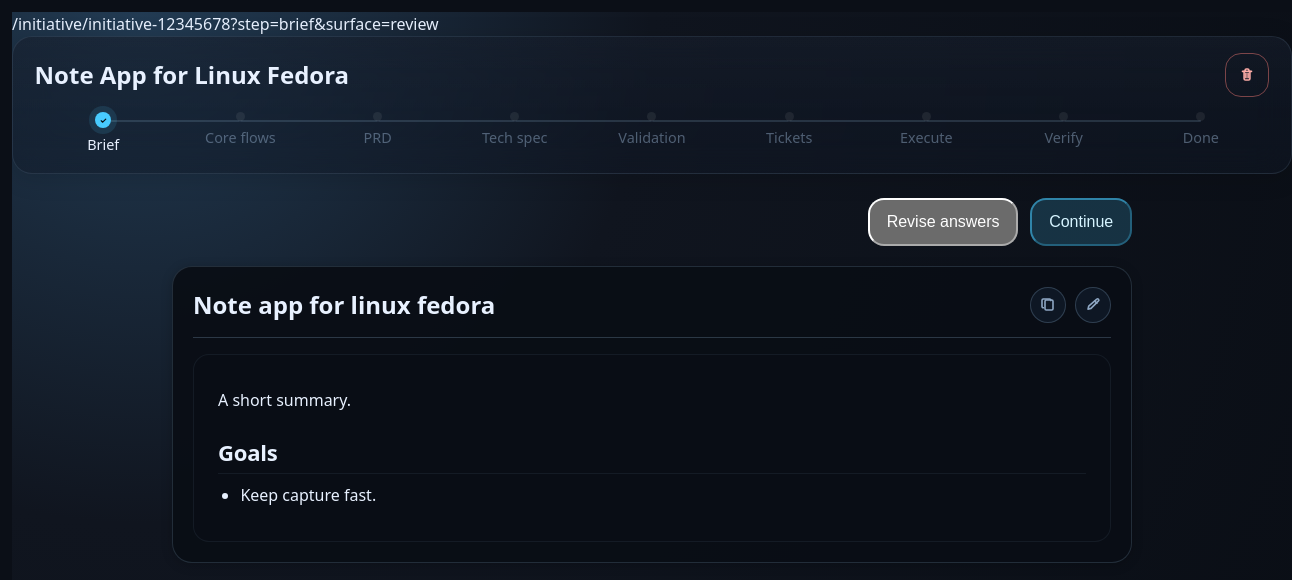
InitiativeRouteView planning surfaces › can reopen the question surface from persisted history even after active questions are cleared
Click the button "Revise answers" at (943, 222), box [868,198,1018,246]
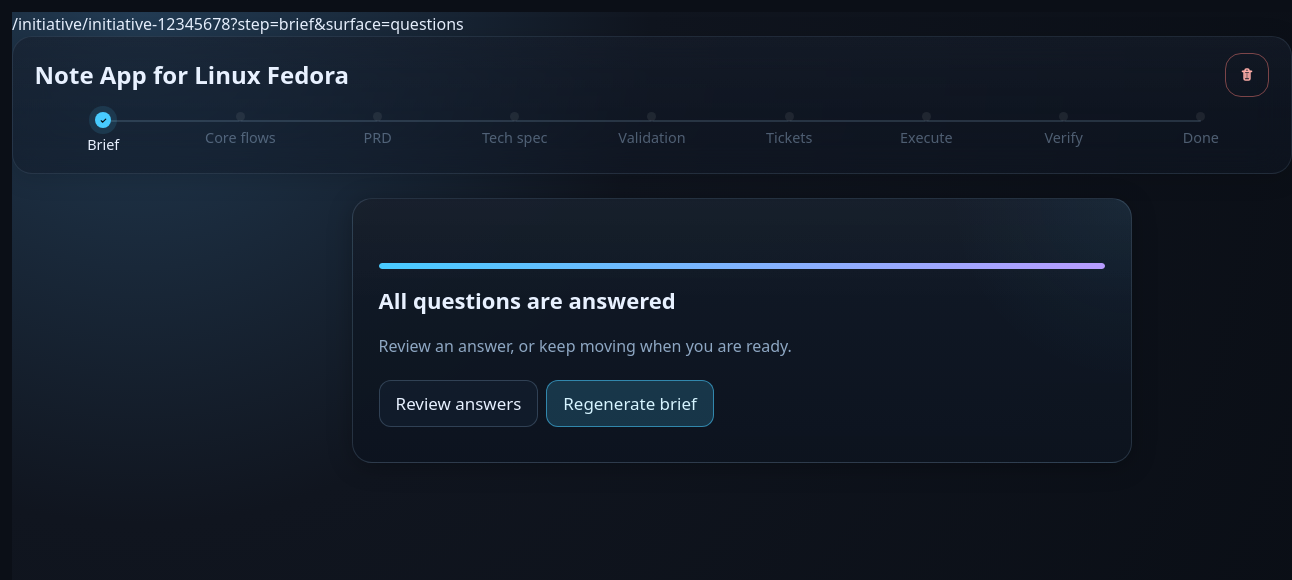
Expected: the heading "All questions are answered" is shown, [379,285,676,315]
Expected: the button "Regenerate brief" is shown, [546,380,714,428]
